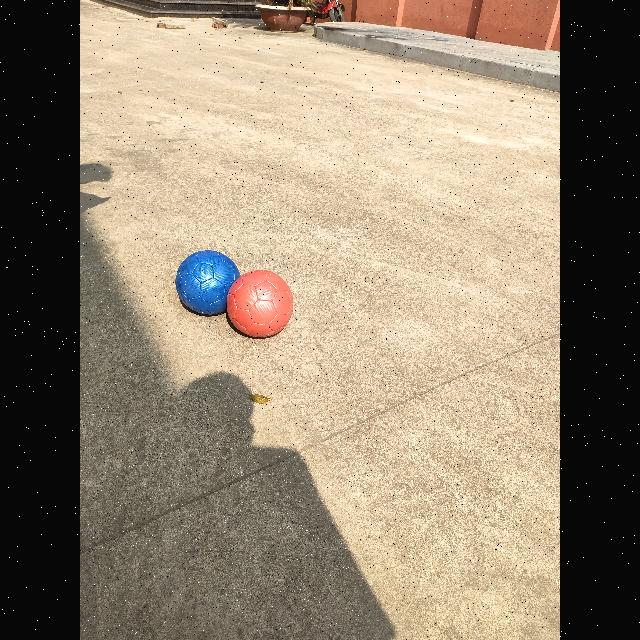B: (175, 250, 241, 314)
R: (226, 271, 293, 338)
